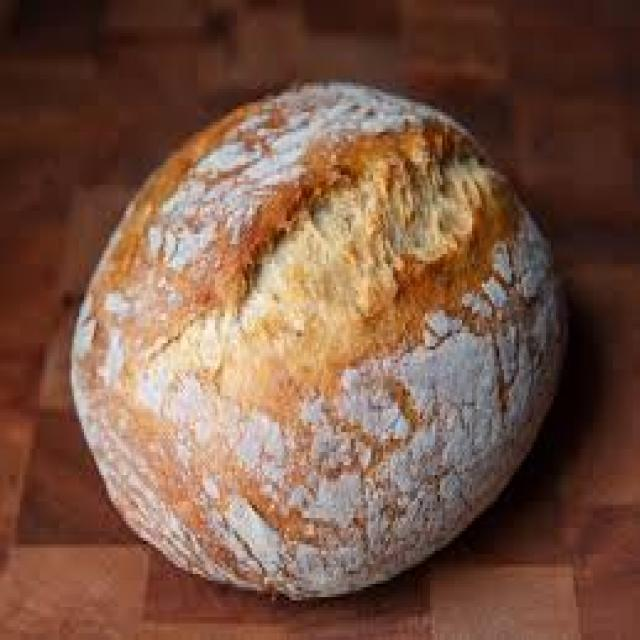organic waste: (67, 80, 561, 600)
